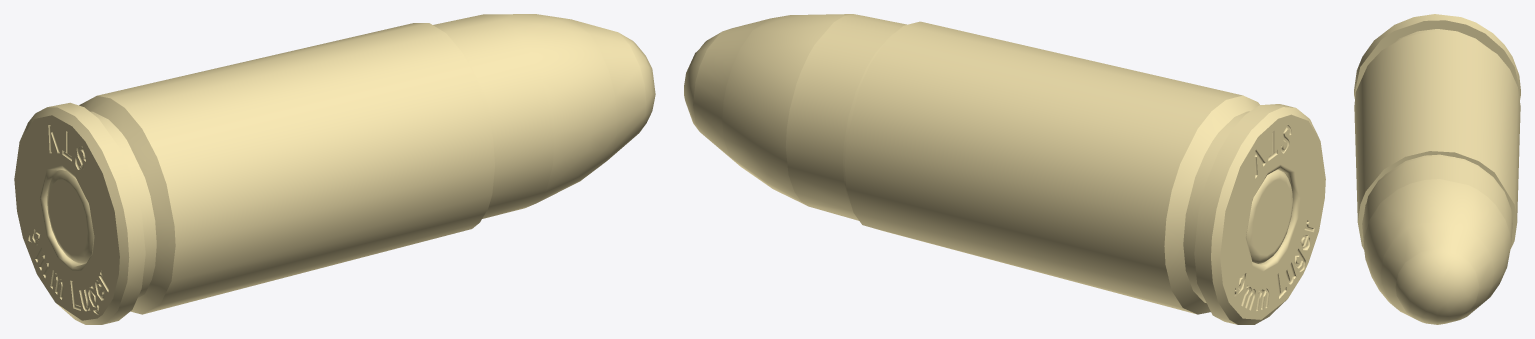
The model's file is Flyer_Scorpio_9mm_Luger_FMJ_75g.glb.
The picture shows the model from 3 angles, left to right: view 1: azimuth 30°, elevation 25°; view 2: azimuth 150°, elevation 25°; view 3: azimuth 270°, elevation 25°; orthographic projection. The views are drawn at different scales.
Parts seen in each view (by area): view 1: Nábojnice_9mm_se_zápalkou_Nábojnice po soustruhu (×2), Střela_9mm_Luger_FMJ_124grs_(8g); view 2: Nábojnice_9mm_se_zápalkou_Nábojnice po soustruhu (×2), Střela_9mm_Luger_FMJ_124grs_(8g); view 3: Nábojnice_9mm_se_zápalkou_Nábojnice po soustruhu, Střela_9mm_Luger_FMJ_124grs_(8g).
Boxes of the visible parts, <box> form: Nábojnice_9mm_se_zápalkou_Nábojnice po soustruhu (×2): <box>14,23,494,324</box>; Střela_9mm_Luger_FMJ_124grs_(8g): <box>433,14,655,218</box>; Nábojnice_9mm_se_zápalkou_Nábojnice po soustruhu (×2): <box>844,21,1325,324</box>; Střela_9mm_Luger_FMJ_124grs_(8g): <box>684,14,906,220</box>; Nábojnice_9mm_se_zápalkou_Nábojnice po soustruhu: <box>1354,14,1520,249</box>; Střela_9mm_Luger_FMJ_124grs_(8g): <box>1362,154,1512,324</box>.
Bounding box in the file's own units: 0.0297 × 0.00996 × 0.00996.
